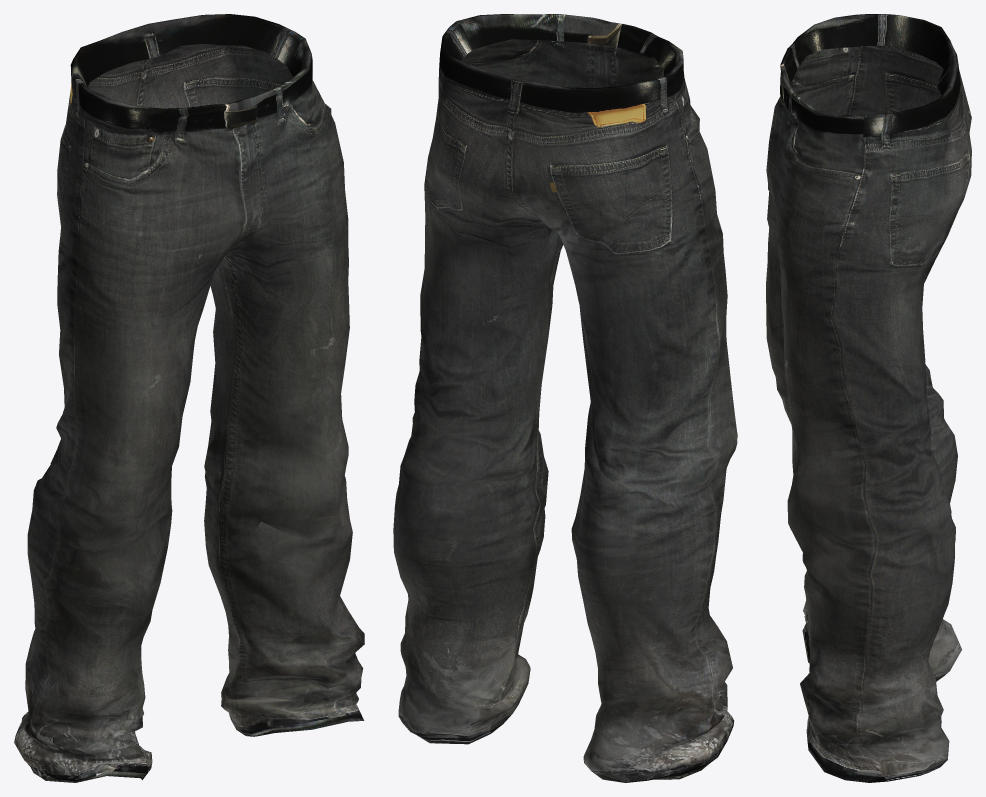
The model's file is PENT.fbx.
3 views of the same model, side by side, from view 1: azimuth 30°, elevation 25°; view 2: azimuth 150°, elevation 25°; view 3: azimuth 270°, elevation 25° (orthographic). The views are drawn at different scales.
Parts seen in each view (by area): view 1: pent; view 2: pent; view 3: pent.
Part boxes in pixels (x1,y1,x2,y2): pent: (14, 14, 364, 782); pent: (393, 14, 737, 782); pent: (766, 14, 971, 782).
Size of the model in its own units: 45.81 by 96.38 by 27.27.
